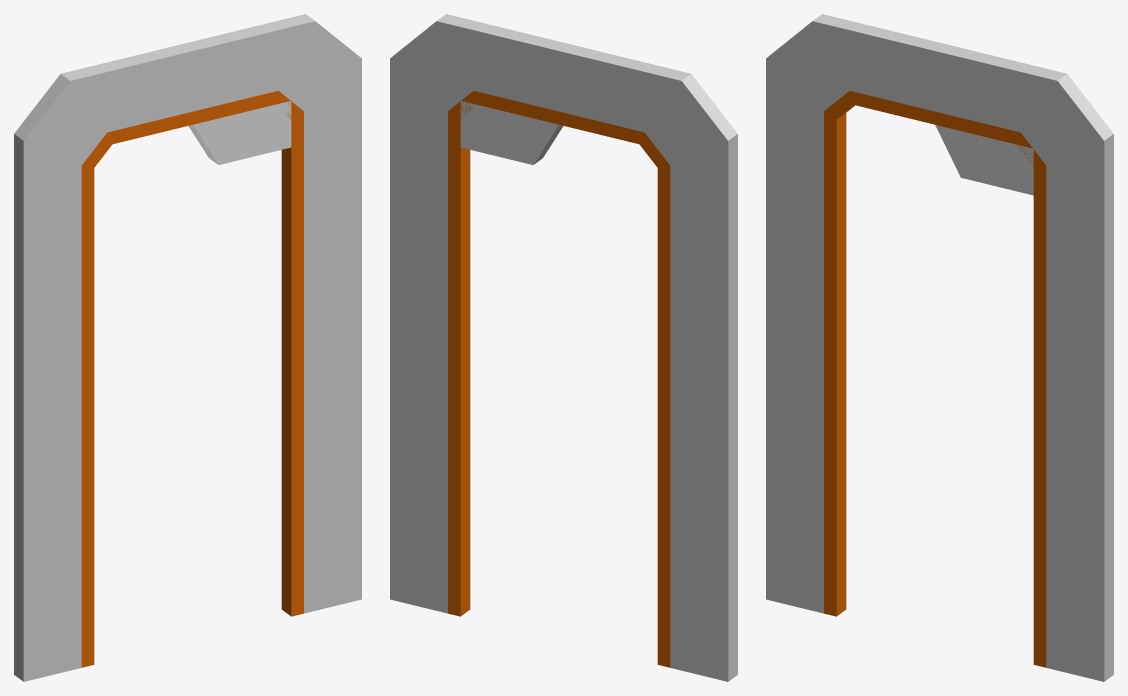
Rendered from SM_Screen.fbx.
3 renders of one model, left to right at view 1: azimuth 30°, elevation 25°; view 2: azimuth 150°, elevation 25°; view 3: azimuth 330°, elevation 25°, orthographic.
Parts seen in each view (by area): view 1: Plane.001; view 2: Plane.001; view 3: Plane.001.
Part boxes in pixels (x1=…): Plane.001: x1=14, y1=14, x2=361, y2=681; Plane.001: x1=390, y1=14, x2=737, y2=681; Plane.001: x1=766, y1=14, x2=1113, y2=681.
Size of the model in its own units: 120 by 200 by 6.
